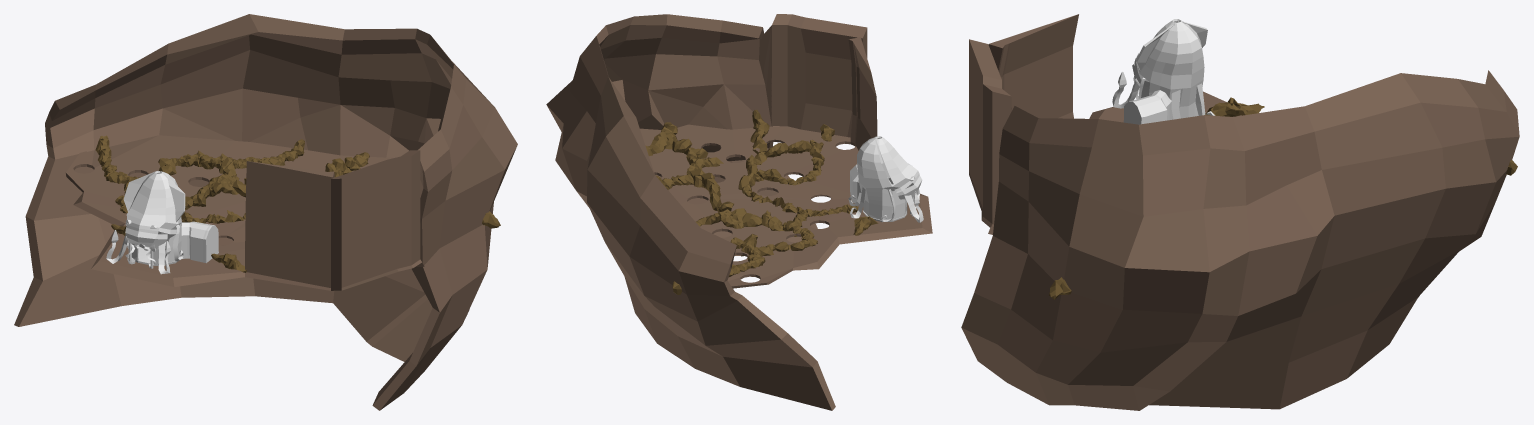
Rendered from upperKelpForest10.fbx.
3 views of the same model, side by side, from view 1: azimuth 30°, elevation 25°; view 2: azimuth 150°, elevation 25°; view 3: azimuth 270°, elevation 25° (orthographic). The views are drawn at different scales.
Parts seen in each view (by area): view 1: ground, temple, quad lump rock.079; view 2: ground, quad lump rock.079, temple; view 3: ground, temple, quad lump rock.079.
Boxes of the visible parts, x1=… form: ground: x1=14, y1=14, x2=517, y2=410; temple: x1=106, y1=170, x2=218, y2=274; quad lump rock.079: x1=95, y1=135, x2=500, y2=272; ground: x1=546, y1=14, x2=932, y2=410; quad lump rock.079: x1=645, y1=109, x2=878, y2=294; temple: x1=848, y1=136, x2=923, y2=222; ground: x1=961, y1=14, x2=1519, y2=410; temple: x1=1112, y1=19, x2=1215, y2=124; quad lump rock.079: x1=1048, y1=97, x2=1517, y2=299.
Size of the model in its own units: 9339 by 5965 by 9111.
